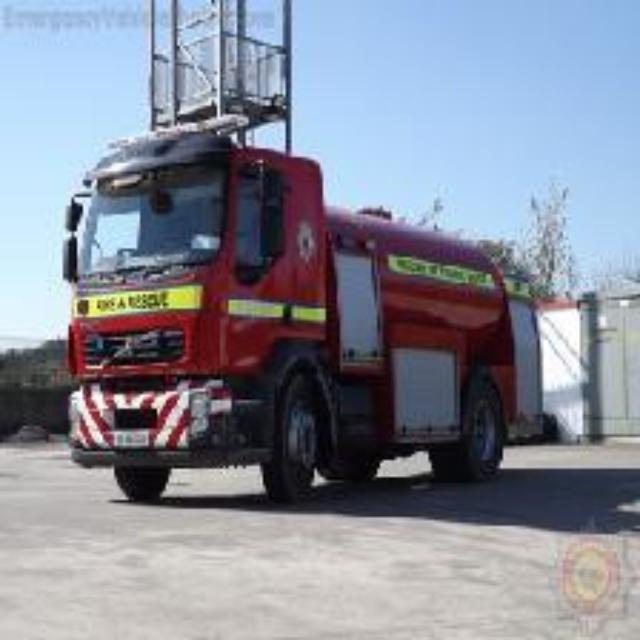emergency: (63, 121, 554, 518)
